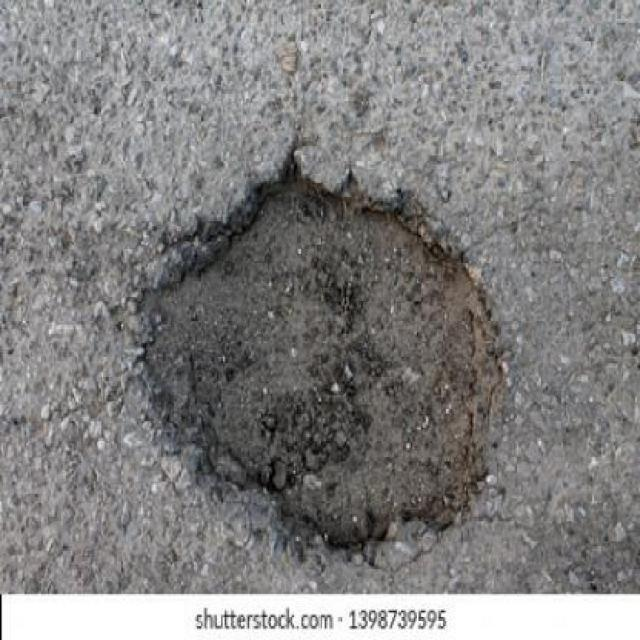Buraco: (127, 144, 522, 580)
